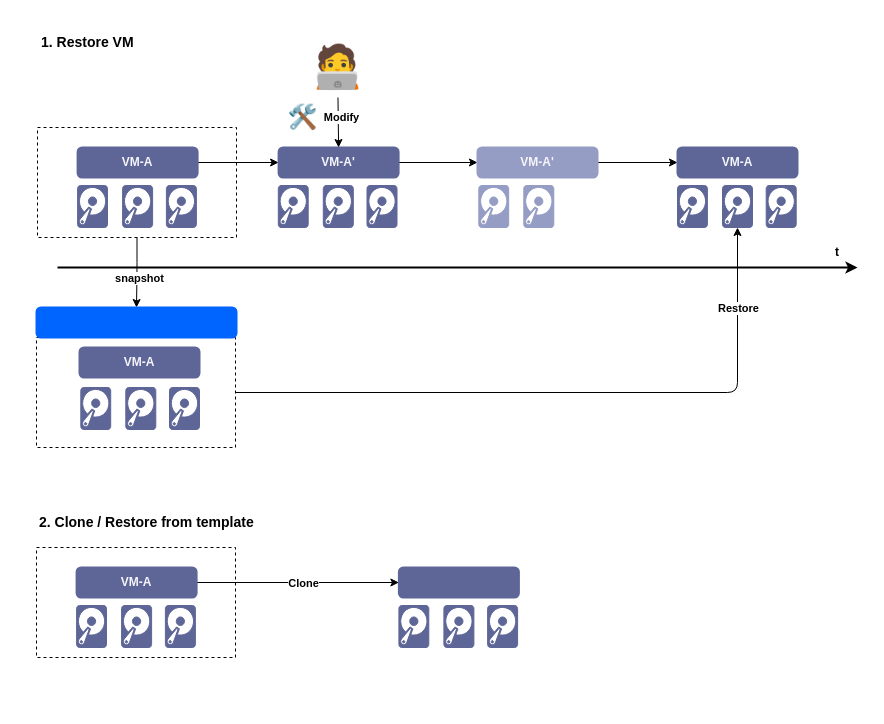
The diagram is 884 pixels wide and 724 high, and some of its shapes have lost their labels. The shapes that lost their labels are listed below. From the top down, each one's centre as x and y in pixels, then its label:
At [136,322]: "VirtualMachineSnapshot".
At [458,582]: "VM-A-2".
